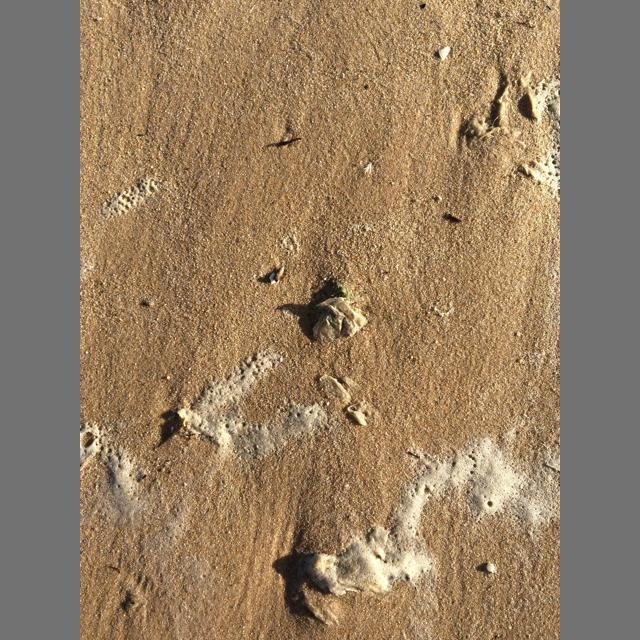litter: (319, 374, 367, 426), (315, 297, 367, 343)
